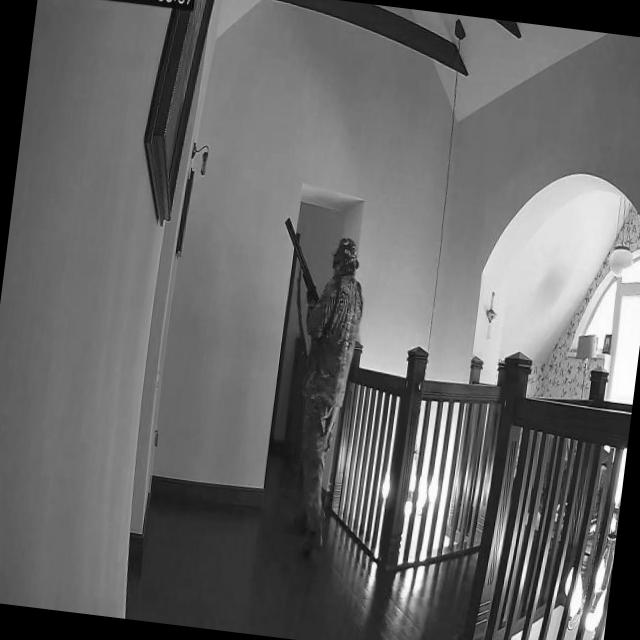gun: (274, 215, 328, 313)
person with a gun: (242, 214, 373, 557)
